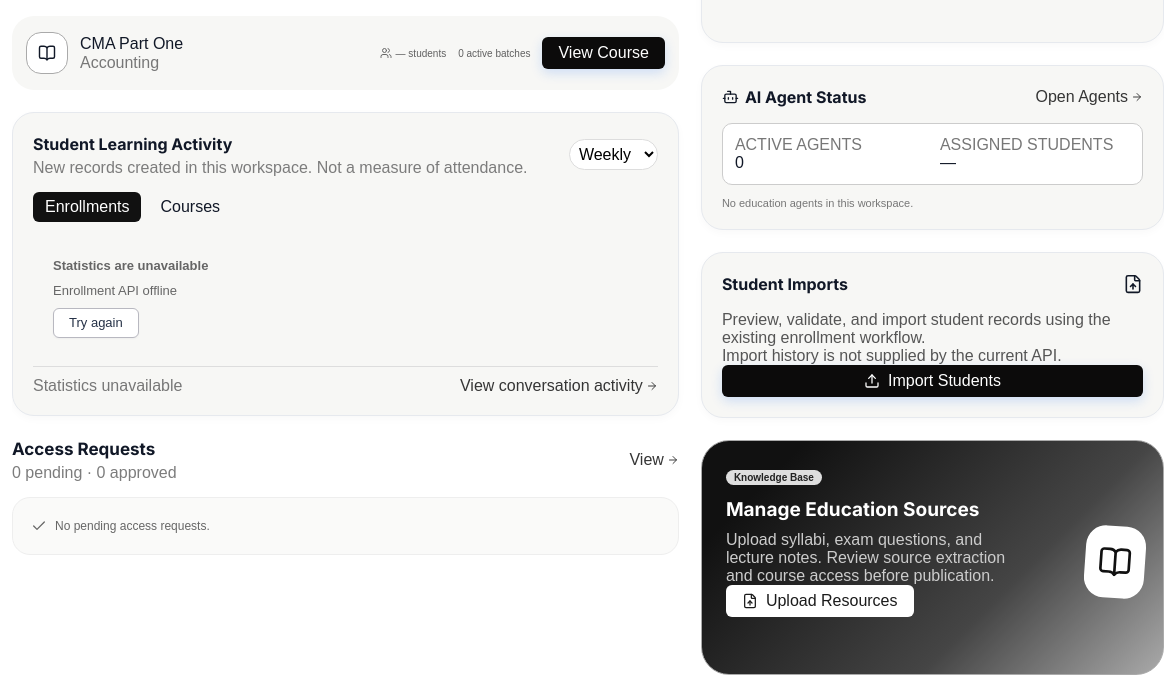
Scenario: does not show zero enrollment totals or a success chart while the API has failed
(page scrolled)
Expected: the text "Statistics unavailable" is shown, x1=33 y1=377 x2=182 y2=395
Click the button "Try again" below "Student Learning Activity". click: (96, 323)
box: x1=53 y1=308 x2=139 y2=338
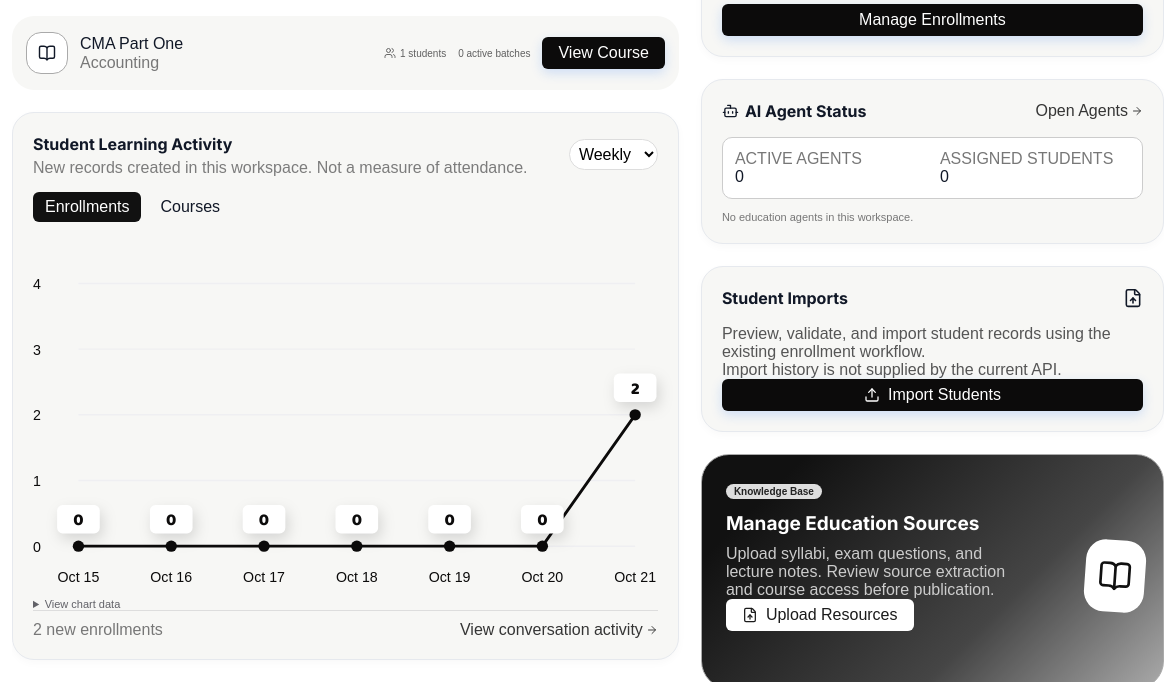
Expected: the picture named "Enrollments created in the last 7 days" is shown, x1=33 y1=238 x2=658 y2=586
